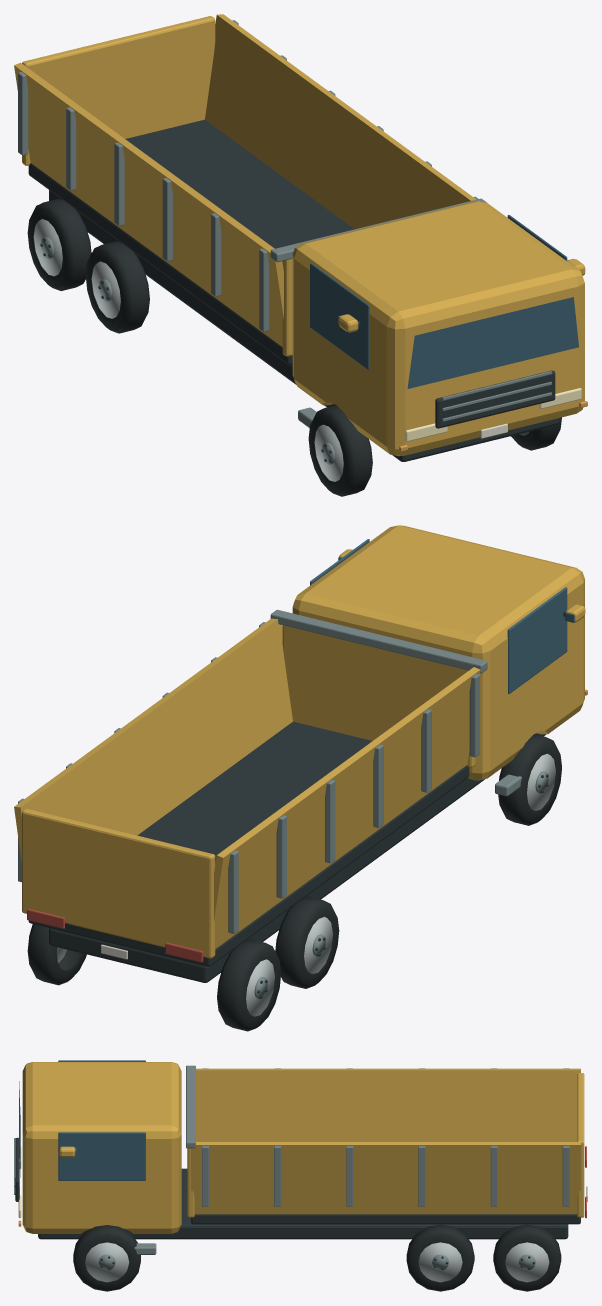
The model's file is original-truck-dump-07.glb.
3 views of the same model, one above another, from view 1: azimuth 30°, elevation 25°; view 2: azimuth 150°, elevation 25°; view 3: azimuth 270°, elevation 25° (orthographic). The views are drawn at different scales.
Visible parts, largest first — view 1: TruckCab, DumpSide.001, DumpSide, DumpFloor, DumpEndWall.001, TruckWindscreen, Frame, CabSideGlass, Tyre_A2R, Tyre_RR, Tyre_FR, CabGrille (+12 smaller); view 2: TruckCab, DumpSide.001, DumpSide, DumpEndWall.001, DumpFloor, DumpEndWall, Frame, CabSideGlass, Tyre_RR, Tyre_A2R, BedRim, Tyre_FR (+10 smaller); view 3: DumpSide, DumpSide.001, TruckCab, Frame, DumpFloor, CabSideGlass.001, Tyre_A2L, Tyre_RL, Tyre_FL, Rim_RL, Rim_FL, Rim_A2L (+10 smaller).
Part boxes in pixels (bbox=[...]): TruckCab: bbox=[292, 201, 584, 456]; DumpSide.001: bbox=[205, 14, 476, 228]; DumpSide: bbox=[14, 62, 283, 346]; DumpFloor: bbox=[28, 119, 354, 364]; DumpEndWall.001: bbox=[22, 16, 215, 165]; TruckWindscreen: bbox=[407, 297, 578, 388]; Frame: bbox=[49, 190, 559, 461]; CabSideGlass: bbox=[310, 263, 369, 369]; Tyre_A2R: bbox=[85, 241, 149, 333]; Tyre_RR: bbox=[27, 198, 91, 290]; Tyre_FR: bbox=[308, 405, 372, 496]; CabGrille: bbox=[435, 370, 555, 428]; TruckCab: bbox=[292, 525, 584, 780]; DumpSide.001: bbox=[14, 618, 292, 863]; DumpSide: bbox=[214, 667, 482, 948]; DumpEndWall.001: bbox=[22, 808, 215, 958]; DumpFloor: bbox=[28, 721, 469, 966]; DumpEndWall: bbox=[282, 625, 475, 767]; Frame: bbox=[49, 733, 545, 982]; CabSideGlass: bbox=[507, 587, 567, 693]; Tyre_RR: bbox=[217, 939, 281, 1031]; Tyre_A2R: bbox=[275, 896, 339, 988]; BedRim: bbox=[270, 609, 487, 673]; Tyre_FR: bbox=[498, 734, 561, 825]; DumpSide: bbox=[196, 1068, 580, 1141]; DumpSide.001: bbox=[191, 1142, 580, 1214]; TruckCab: bbox=[22, 1062, 181, 1233]; Frame: bbox=[38, 1168, 568, 1239]; DumpFloor: bbox=[191, 1214, 580, 1224]; CabSideGlass.001: bbox=[58, 1132, 145, 1180]; Tyre_A2L: bbox=[406, 1224, 474, 1291]; Tyre_RL: bbox=[493, 1224, 561, 1291]; Tyre_FL: bbox=[73, 1225, 140, 1291]; Rim_RL: bbox=[505, 1242, 549, 1282]; Rim_FL: bbox=[85, 1242, 129, 1282]; Rim_A2L: bbox=[418, 1242, 462, 1282].
Bounding box in the file's own units: 2.85 × 2.45 × 7.94.
